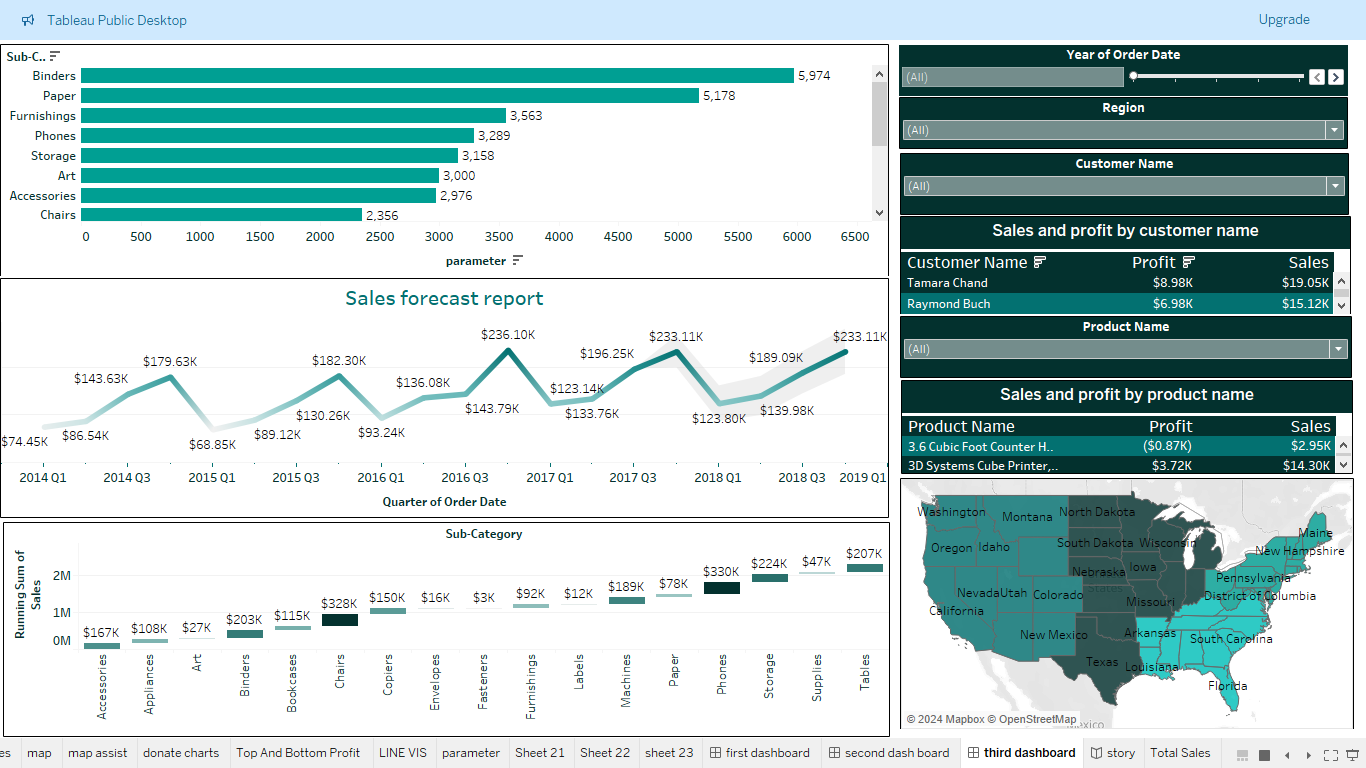

The page's visual inventory and layout, read from the dashboard file:
{"tool":"tableau","page":{"name":"third dashboard","canvas":[1000,1000],"units":"permille","ordinal":2},"visuals":[{"type":"worksheet","title":"parameter","mark":"Automatic","rows":["Sub-Category"],"cols":["Calculation_724235164480815106"],"box":[0,5.4,651.1,333.3]},{"type":"filter","title":"water fall","param":"[federated.0lmxfgi04221vz131uro409p8596].[yr:Order Date:ok]","box":[658,7.2,329,72.5]},{"type":"filter","title":"map ","param":"[federated.0lmxfgi04221vz131uro409p8596].[none:Region:nk]","box":[658,81.5,329,74.3]},{"type":"filter","title":"1","param":"[federated.0lmxfgi04221vz131uro409p8596].[none:Customer Name:nk]","box":[658.9,161.2,329,88.8]},{"type":"worksheet","title":"1","mark":"Automatic","rows":["Customer Name"],"box":[658.9,251.8,329.9,141.3]},{"type":"worksheet","title":"Sales forecast report","mark":"Automatic","rows":["Sales"],"cols":["Order Date"],"box":[0,340.6,651.1,344.2]},{"type":"filter","title":"sheet 23","param":"[federated.0lmxfgi04221vz131uro409p8596].[none:Product Name:nk]","box":[658.9,394.9,330.7,88.8]},{"type":"worksheet","title":"sheet 23","mark":"Automatic","rows":["Product Name"],"box":[659.7,487.3,330.7,134.1]},{"type":"worksheet","title":"map ","mark":"Multipolygon","box":[658.9,626.8,332.5,360.5]},{"type":"worksheet","title":"water fall","mark":"GanttBar","rows":["Sales"],"cols":["Sub-Category"],"box":[2.6,690.2,649.3,308]}]}

Visuals, with their boxes on the dashboard's canvas, which has no fixed pixel size, in thousandths of its width and height (x1, y1, x2, y2). These are canvas units, not pixel positions in the 1366x768 screenshot, which may show the page scaled, cropped or inside an application window:
"parameter" worksheet: crop(0, 5, 651, 339)
"water fall" filter: crop(658, 7, 987, 80)
"map " filter: crop(658, 82, 987, 156)
"1" filter: crop(659, 161, 988, 250)
"1" worksheet: crop(659, 252, 989, 393)
"Sales forecast report" worksheet: crop(0, 341, 651, 685)
"sheet 23" filter: crop(659, 395, 990, 484)
"sheet 23" worksheet: crop(660, 487, 990, 621)
"map " worksheet (Multipolygon marks): crop(659, 627, 991, 987)
"water fall" worksheet (GanttBar marks): crop(3, 690, 652, 998)
